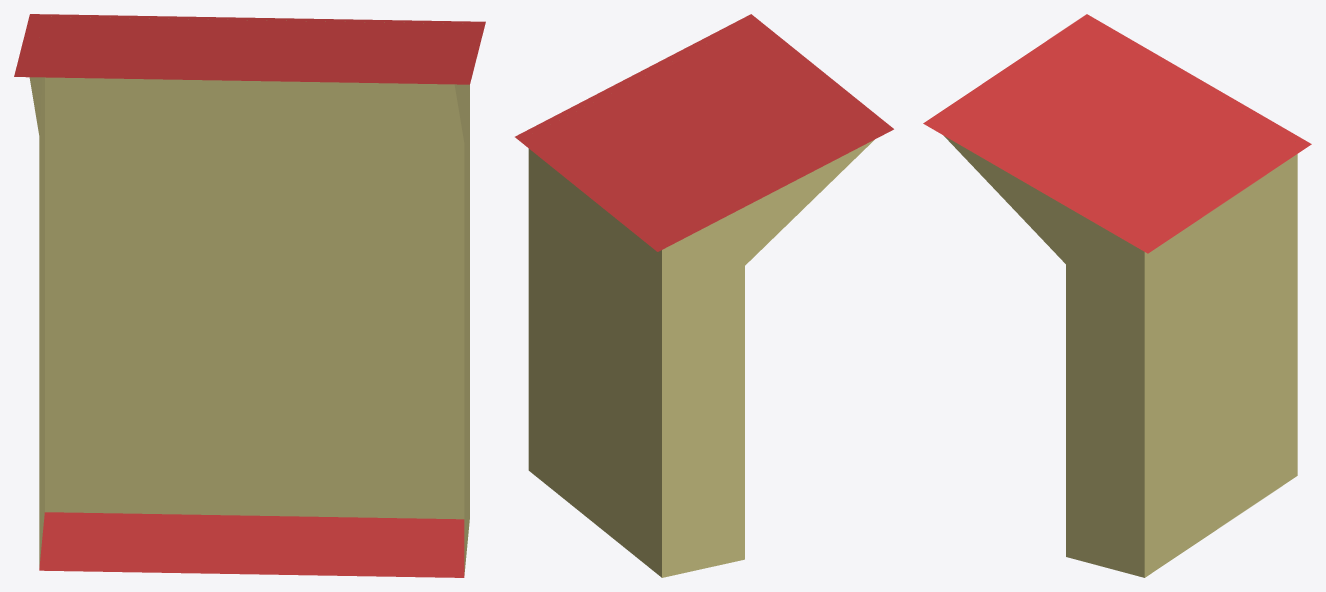
The picture shows the model from 3 angles, left to right: view 1: azimuth 30°, elevation 25°; view 2: azimuth 150°, elevation 25°; view 3: azimuth 270°, elevation 25°; orthographic projection. The views are drawn at different scales.
Size of the model in its own units: 9.63 by 9.33 by 10.6.
